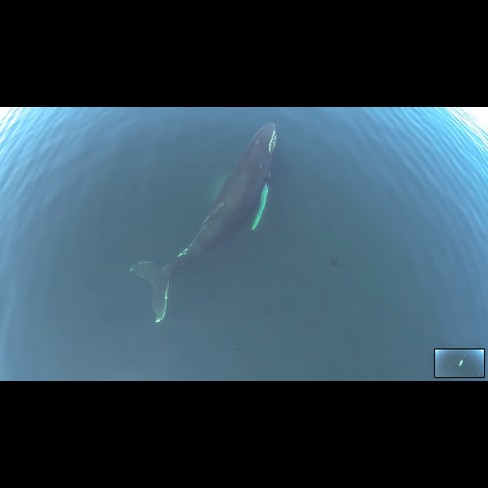hump: (126, 114, 281, 335)
